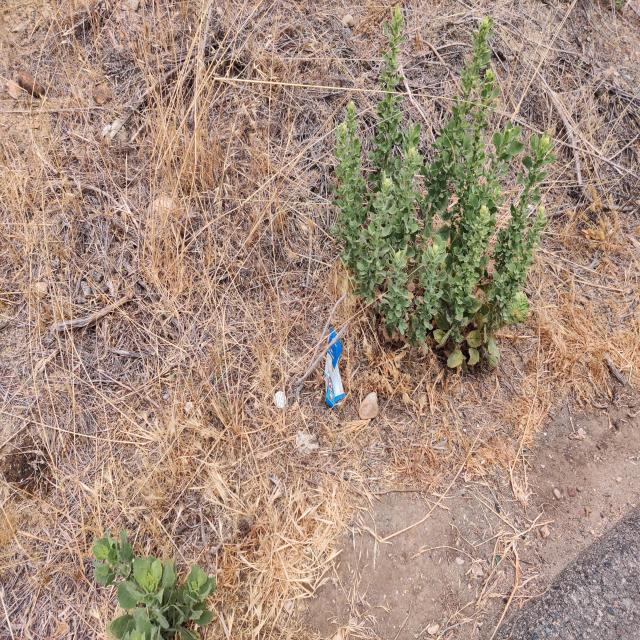litter: (312, 319, 349, 415)
